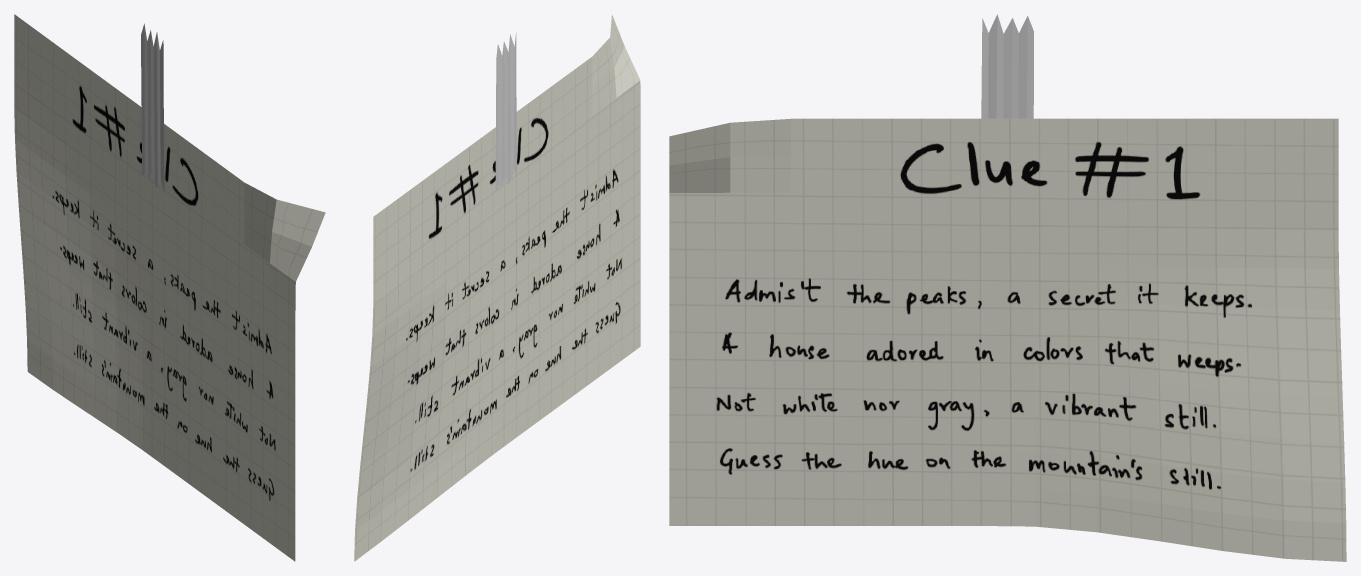
File: Clue1.fbx
3 renders of one model, left to right at view 1: azimuth 30°, elevation 25°; view 2: azimuth 150°, elevation 25°; view 3: azimuth 270°, elevation 25°, orthographic. The views are drawn at different scales.
Parts seen in each view (by area): view 1: Paper, Tape; view 2: Paper, Tape; view 3: Paper, Tape.
Part boxes in pixels (box(x1,y1,x2,y2)): Paper: box(14, 14, 325, 561); Tape: box(141, 23, 164, 192); Paper: box(354, 14, 640, 561); Tape: box(495, 32, 516, 191); Paper: box(669, 118, 1346, 561); Tape: box(981, 14, 1033, 118).
Bounding box in the file's own units: 41.07 × 560 × 639.
Materials: 1 (1 with a texture image).
